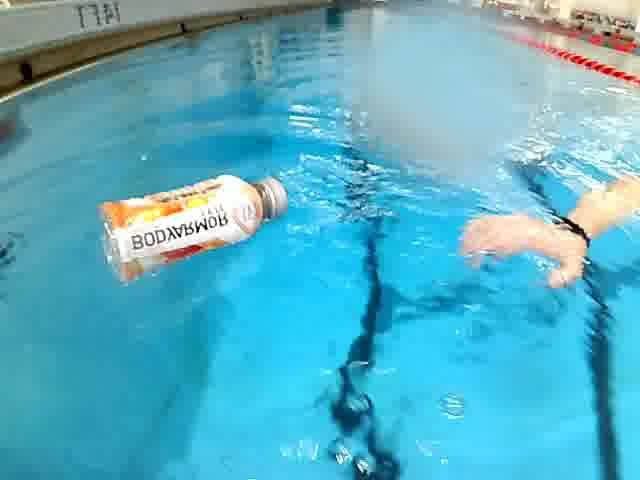Bottle: (92, 168, 294, 290)
